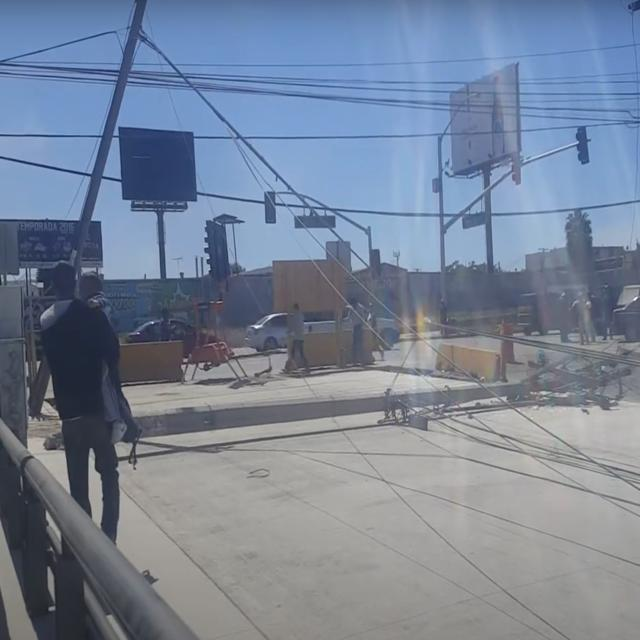Inclined Pole: (39, 350, 633, 452)
